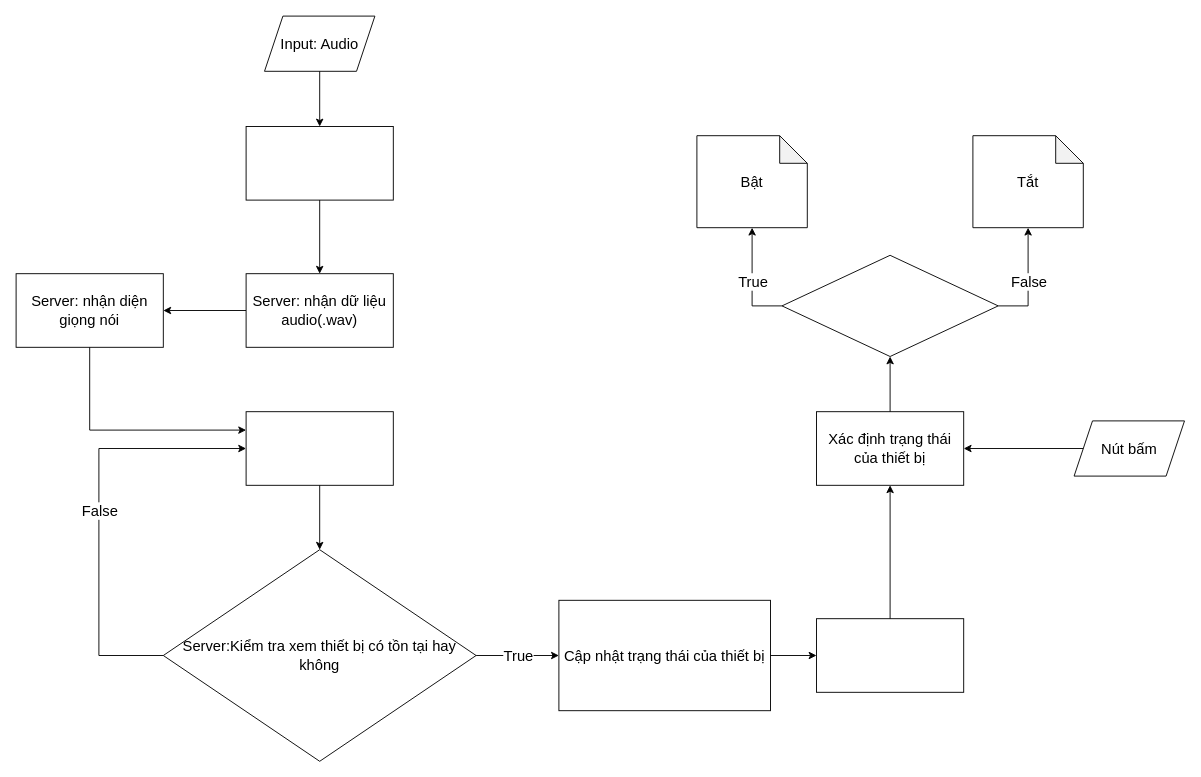
Image size: 1201x777. Some labels were removed from this diagram. Here are the shapes that lost their labels. From the top down, the centre of each, then its label:
pixel 319 163: ESP32: nhận gửi dữ liệu đến server
pixel 889 305: Trạng thái
pixel 319 448: Server: xác định thiết bị và trạng thái
pixel 890 655: Gửi dữ liệu đến thiết bị
